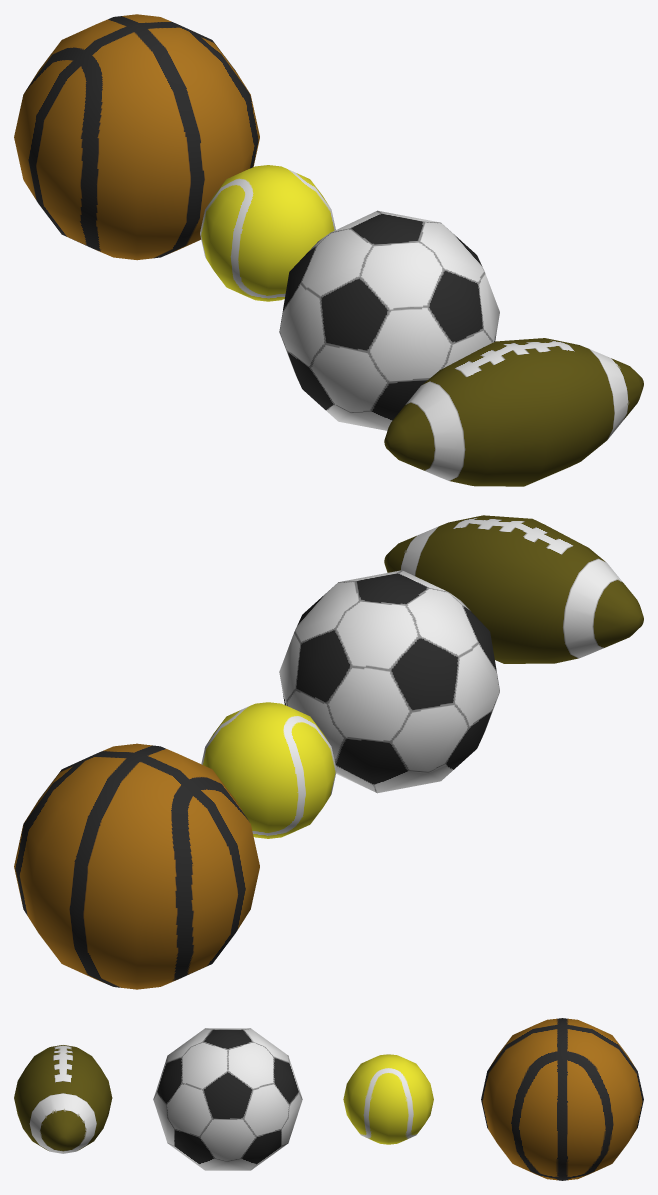
Rendered from Set1.fbx.
The picture shows the model from 3 angles, top to bottom: view 1: azimuth 30°, elevation 25°; view 2: azimuth 150°, elevation 25°; view 3: azimuth 270°, elevation 25°; orthographic projection. The views are drawn at different scales.
Parts seen in each view (by area): view 1: Sphere.003, Icosphere.001, Cylinder.001, Sphere; view 2: Sphere.003, Icosphere.001, Cylinder.001, Sphere; view 3: Sphere.003, Icosphere.001, Cylinder.001, Sphere.
Part boxes in pixels (box(x1,y1,x2,y2)): Sphere.003: box(14, 14, 259, 260); Icosphere.001: box(279, 210, 499, 430); Cylinder.001: box(384, 338, 643, 486); Sphere: box(200, 165, 335, 301); Sphere.003: box(14, 743, 259, 989); Icosphere.001: box(279, 570, 499, 793); Cylinder.001: box(384, 515, 643, 663); Sphere: box(201, 702, 336, 838); Sphere.003: box(481, 1018, 643, 1180); Icosphere.001: box(153, 1028, 302, 1170); Cylinder.001: box(14, 1045, 112, 1153); Sphere: box(343, 1054, 433, 1144).
Bounding box in the file's own units: 237 × 199 × 771.
